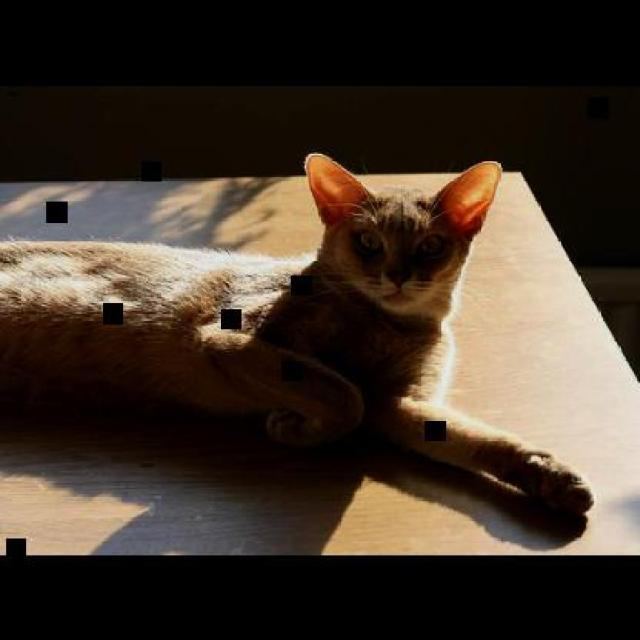unauthorized: (0, 151, 594, 518)
